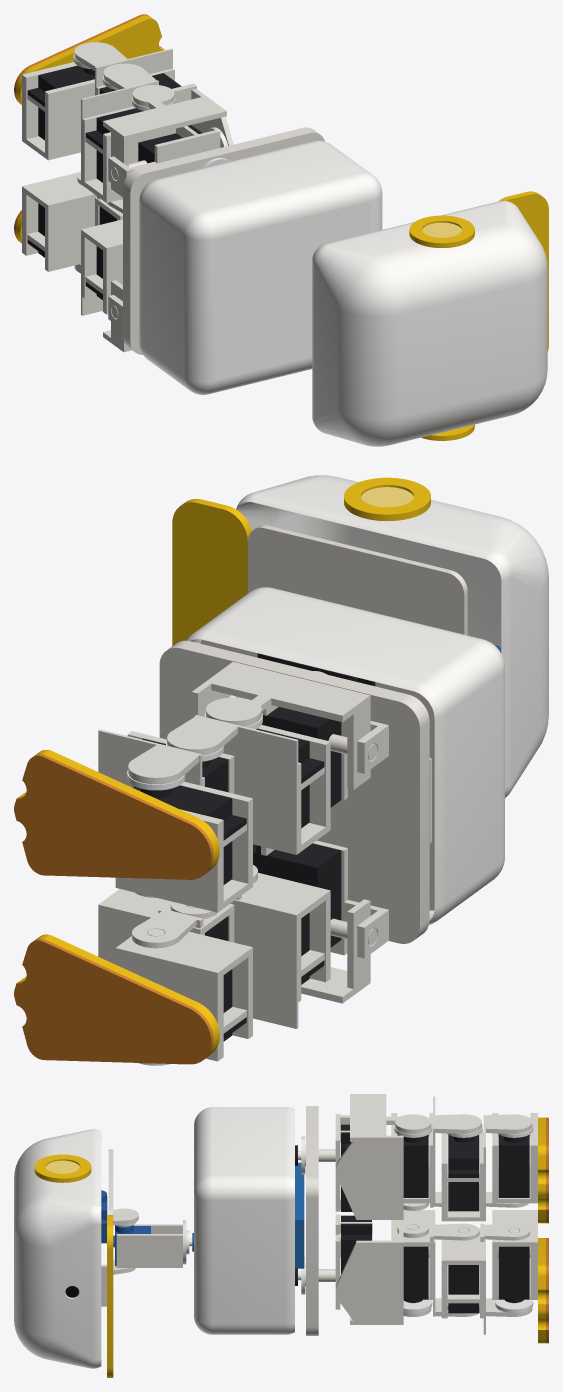
The model's file is pato.glb.
3 views of the same model, one above another, from view 1: azimuth 30°, elevation 25°; view 2: azimuth 150°, elevation 25°; view 3: azimuth 270°, elevation 25° (orthographic). The views are drawn at different scales.
Parts seen in each view (by area): view 1: cupula, cuerpo_superior, cuerpo_inferior, piso_tronco, soporte_pie_der, soporte_u_izq, soporte_muslo_izq, soporte_pie_izq, soporte_muslo_der, paleta_pie_izq, soporte_canilla_izq, placa_yaw_izq (+6 smaller); view 2: cupula, piso_tronco, cuerpo_inferior, suela_der, suela_izq, base_cabeza, cuerpo_superior, soporte_muslo_izq, soporte_muslo_der, pico_superior, soporte_u_izq, soporte_pie_der (+16 smaller); view 3: cupula, cuerpo_inferior, cuerpo_superior, soporte_u_izq, soporte_u_der, soporte_canilla_der, piso_tronco, soporte_canilla_izq, soporte_cuello, soporte_muslo_der, servo_rodilla_izq, soporte_pie_der (+20 smaller).
Part boxes in pixels (<box>): cupula: <box>312,200,547,446</box>; cuerpo_superior: <box>166,159,382,394</box>; cuerpo_inferior: <box>139,140,352,375</box>; piso_tronco: <box>123,127,324,354</box>; soporte_pie_der: <box>22,172,96,271</box>; soporte_u_izq: <box>103,85,233,197</box>; soporte_muslo_izq: <box>81,63,175,202</box>; soporte_pie_izq: <box>22,62,94,160</box>; soporte_muslo_der: <box>81,199,122,315</box>; paleta_pie_izq: <box>16,15,164,104</box>; soporte_canilla_izq: <box>74,42,196,103</box>; placa_yaw_izq: <box>108,126,220,190</box>; cupula: <box>236,475,548,797</box>; piso_tronco: <box>159,640,429,943</box>; cuerpo_inferior: <box>186,607,476,924</box>; suela_der: <box>14,939,213,1064</box>; suela_izq: <box>14,754,213,879</box>; base_cabeza: <box>248,525,467,635</box>; cuerpo_superior: <box>226,587,504,896</box>; soporte_muslo_izq: <box>167,715,330,854</box>; soporte_muslo_der: <box>170,873,330,1028</box>; pico_superior: <box>172,499,251,645</box>; soporte_u_izq: <box>191,662,377,789</box>; soporte_pie_der: <box>115,929,252,1061</box>; cupula: <box>14,1129,101,1368</box>; cuerpo_inferior: <box>244,1107,294,1334</box>; cuerpo_superior: <box>194,1107,244,1334</box>; soporte_u_izq: <box>336,1094,431,1219</box>; soporte_u_der: <box>336,1220,431,1324</box>; soporte_canilla_der: <box>441,1223,532,1334</box>; piso_tronco: <box>306,1106,318,1335</box>; soporte_canilla_izq: <box>441,1114,532,1221</box>; soporte_cuello: <box>116,1220,186,1267</box>; soporte_muslo_der: <box>391,1210,479,1316</box>; servo_rodilla_izq: <box>448,1134,479,1211</box>; soporte_pie_der: <box>492,1210,537,1299</box>.
Bounding box in the file's own units: 0.193 × 0.138 × 0.339.
